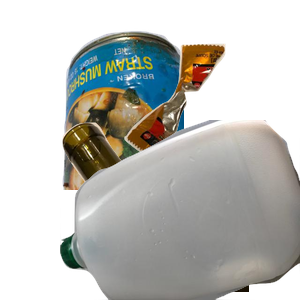glass: (60, 120, 300, 300)
metal: (60, 28, 300, 208)
plastic: (60, 120, 300, 300)
trash: (122, 41, 300, 190)
